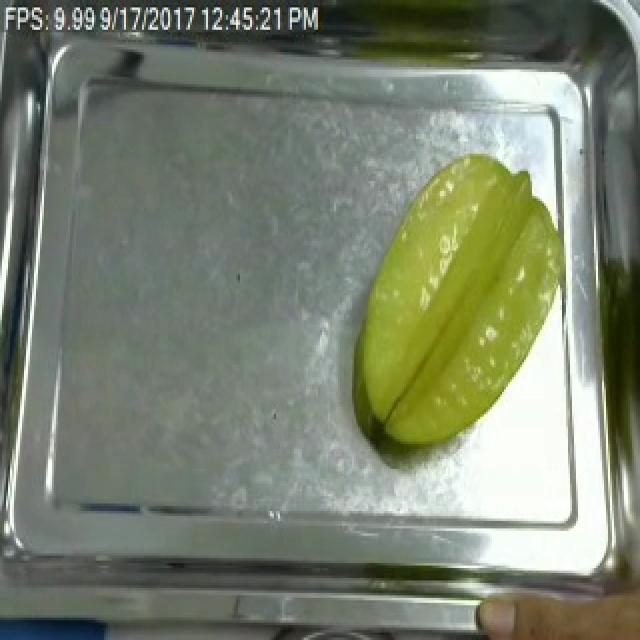fruit: (342, 141, 572, 459), (466, 558, 640, 640)
